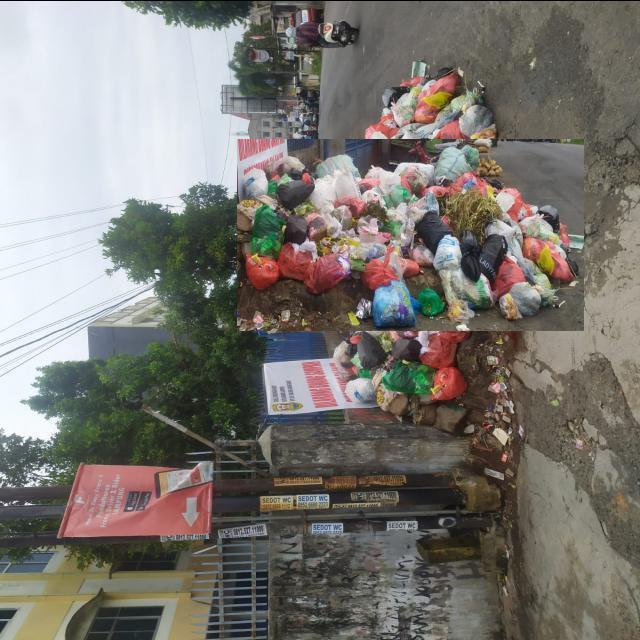Trashbag: (477, 232, 508, 277), (419, 208, 453, 248), (277, 176, 317, 208), (355, 330, 385, 368), (391, 336, 422, 366), (536, 203, 564, 232), (284, 216, 309, 240)
